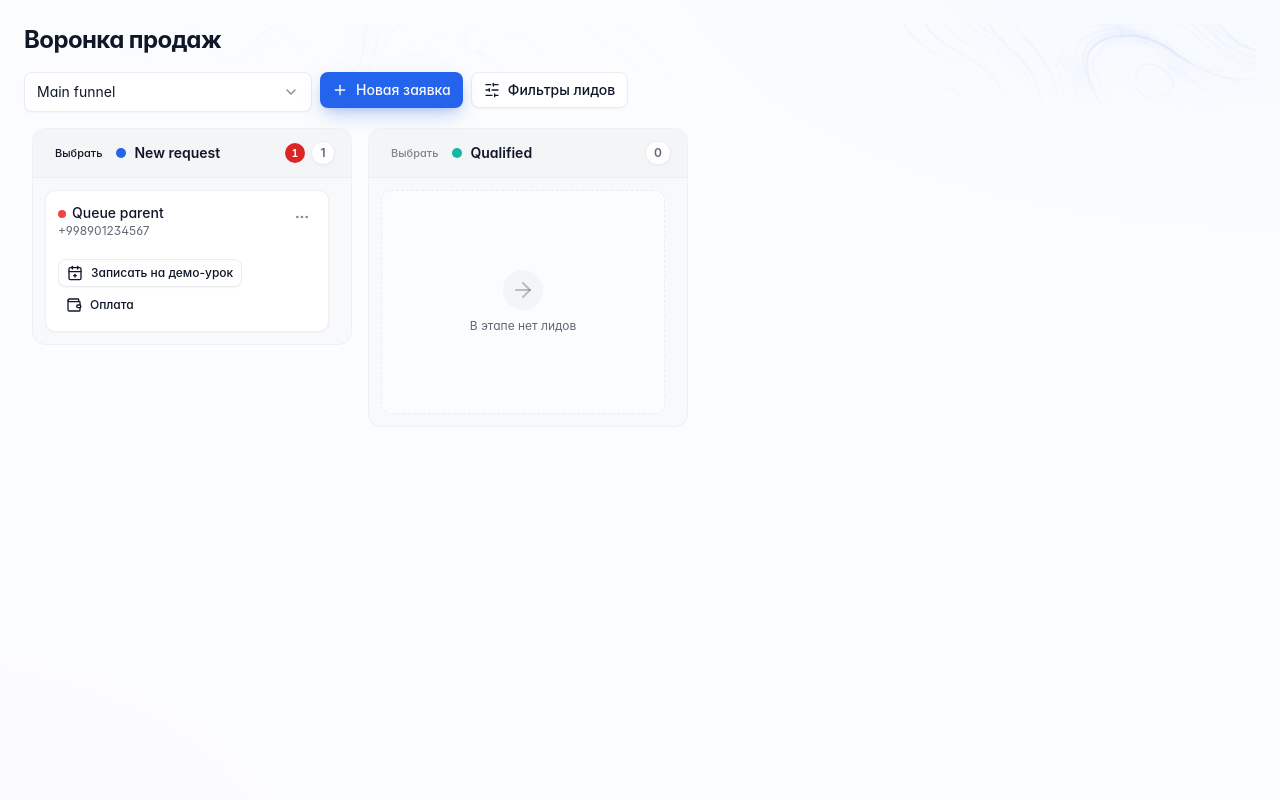
Test case: claiming queue leads before pipeline processing › allows opening the card for reading without a standalone claim button
Click the button "Queue parent +998901234567 Записать на демо-урок Оплата". click: point(187, 261)
box: x1=45 y1=190 x2=329 y2=332
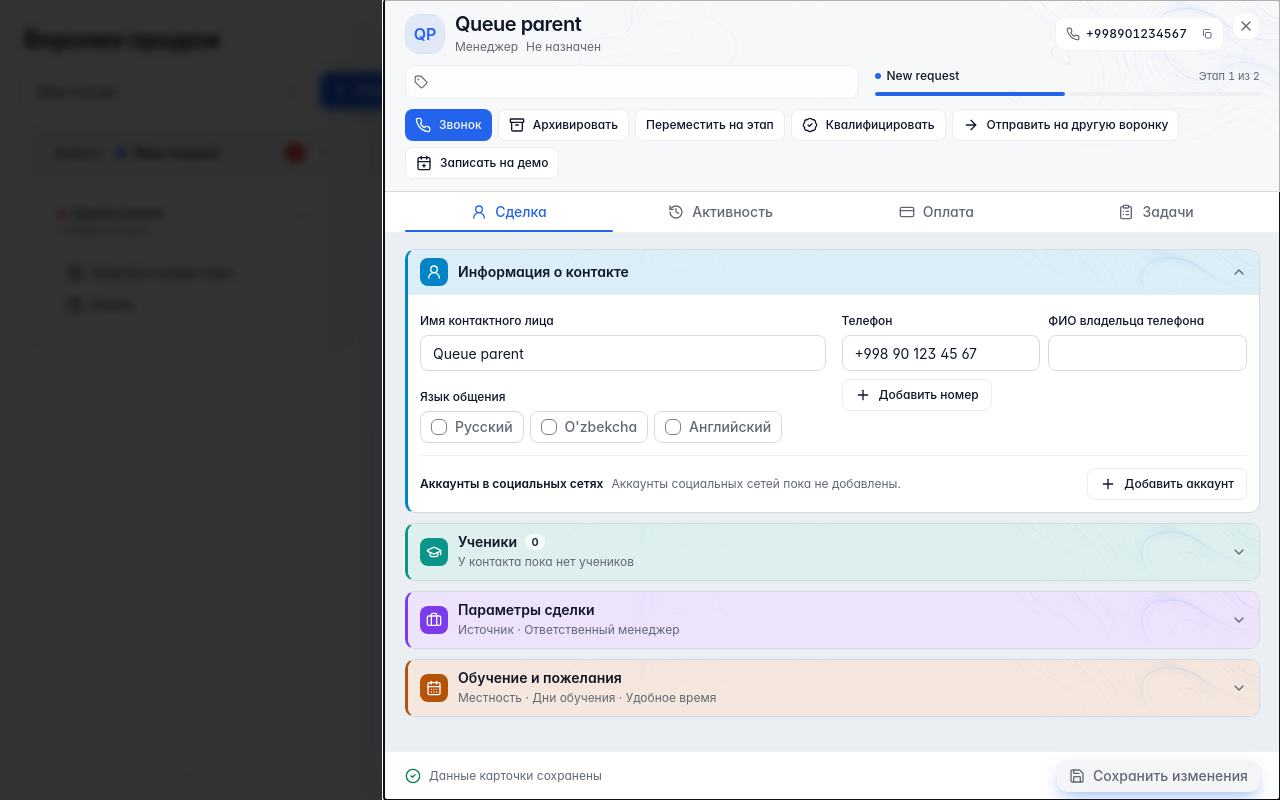
Result: the heading "Queue parent" is shown at x1=455 y1=12 x2=581 y2=37
